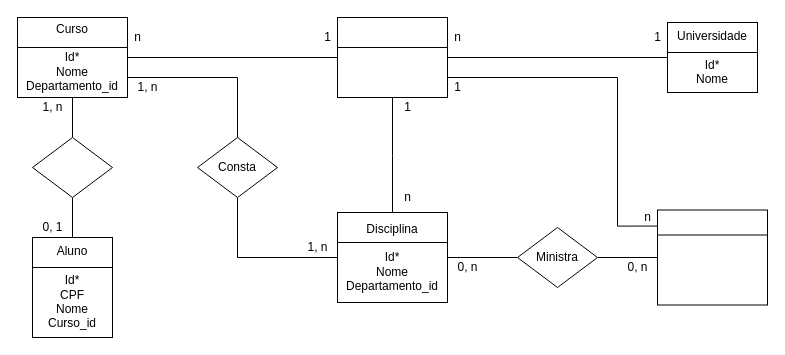
Some shapes in this 785 by 355 pixel diagram are drawn without their labels. Here are the shapes that lost their labels. From the top down, the centre of each, then its label:
At [392,57]: "Departamento Id* Nome Universidade_id".
At [72,167]: "Matricula".
At [712,257]: "Professor Id* CPF Nome Departamento_id".
